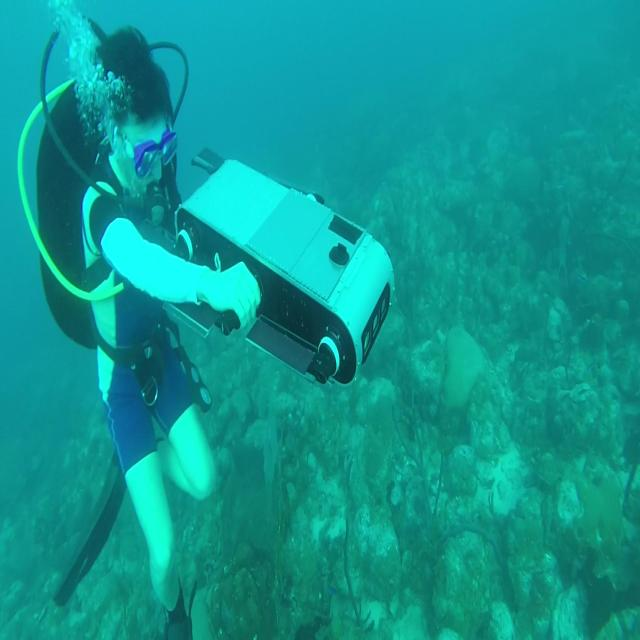human: (19, 13, 263, 638)
